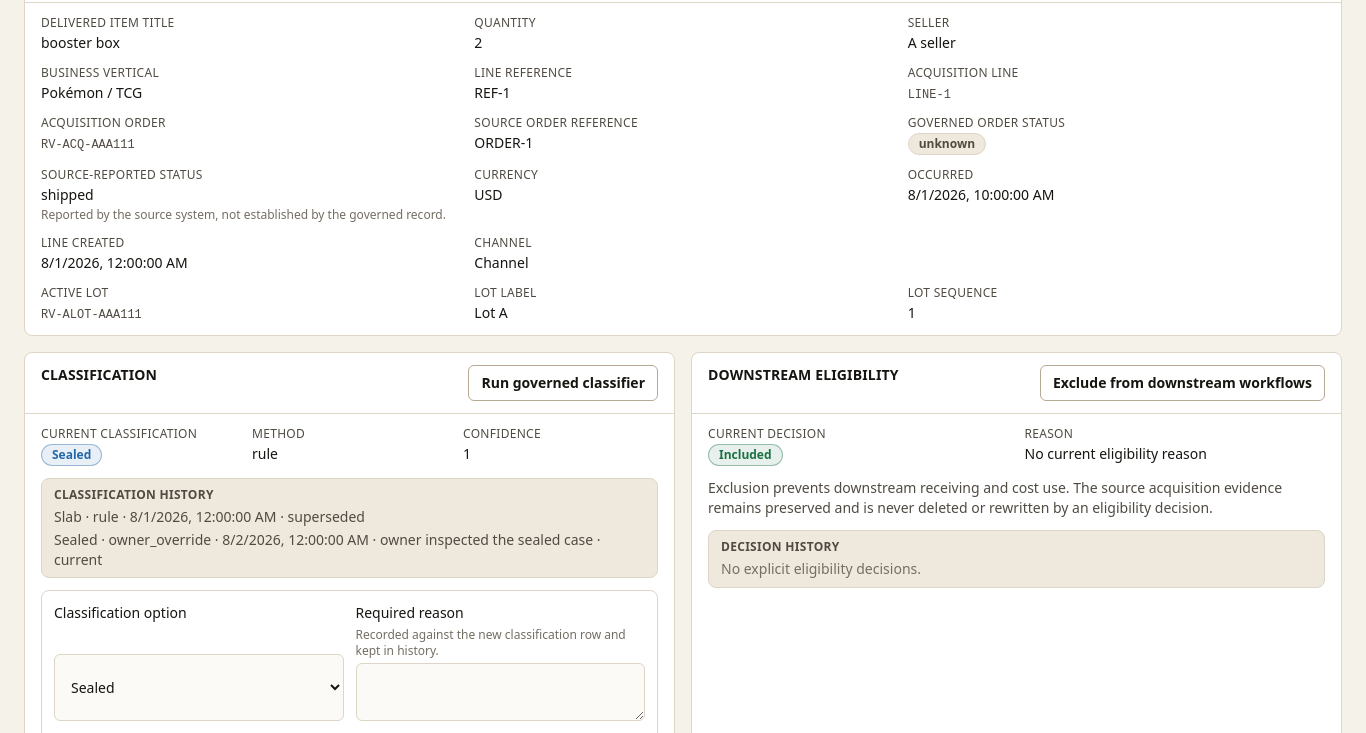
Test case: acquisition detail — classification › makes an automatic classifier failure visible
(page scrolled)
Click the button "Run governed classifier". click: (563, 383)
box: [468,365,658,401]
(page scrolled)
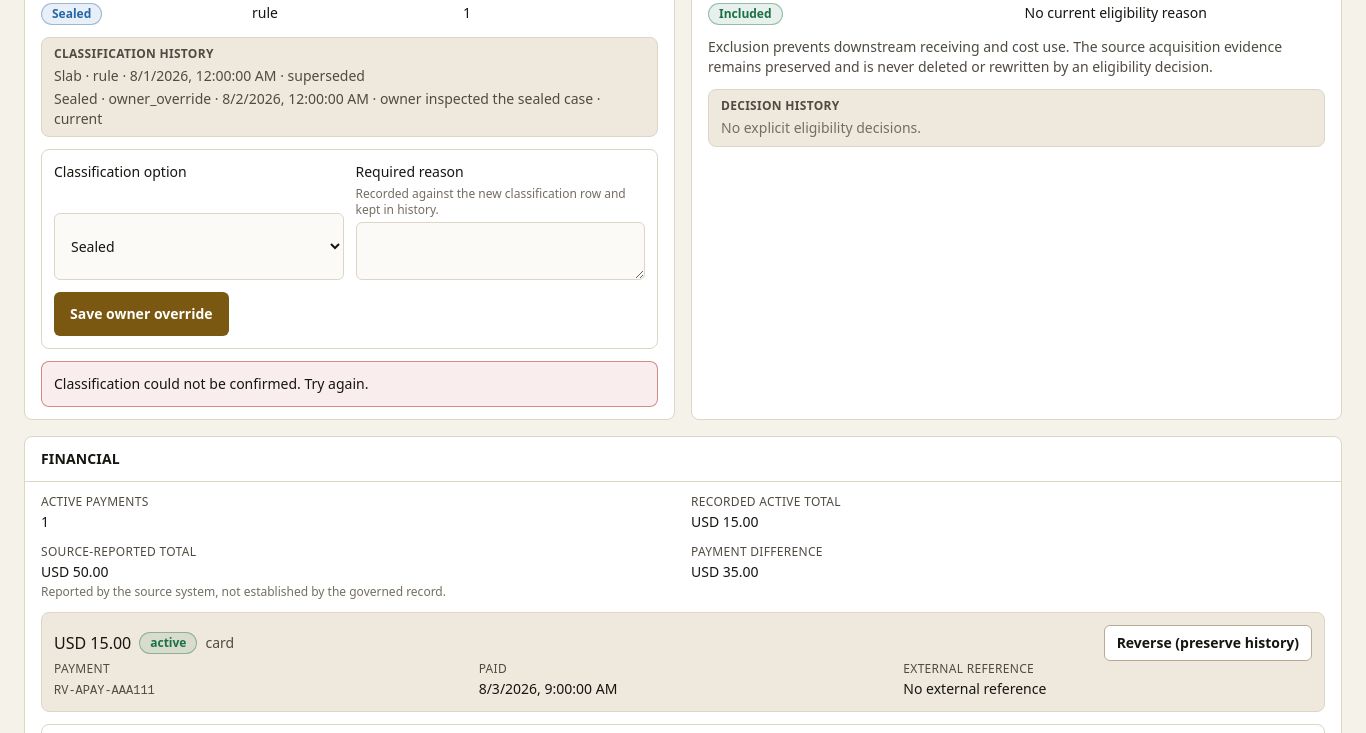
Result: the text "Classification could not be confirmed. Try again." is shown at [54,374,368,393]
